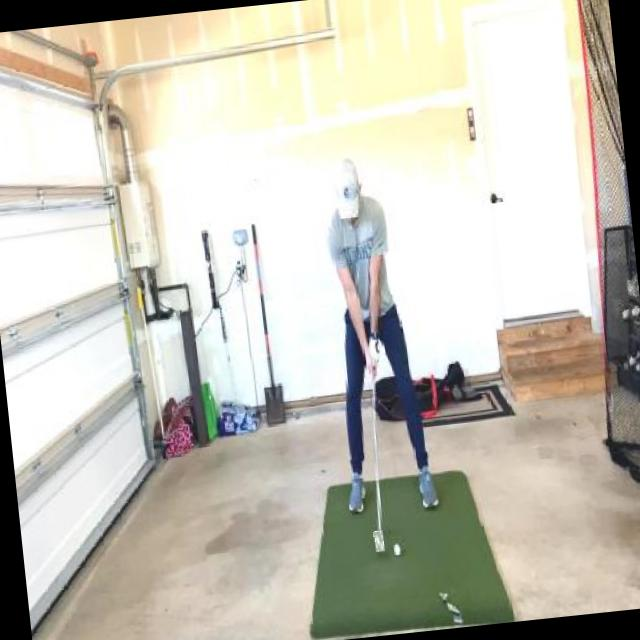club head: (374, 530, 384, 552)
